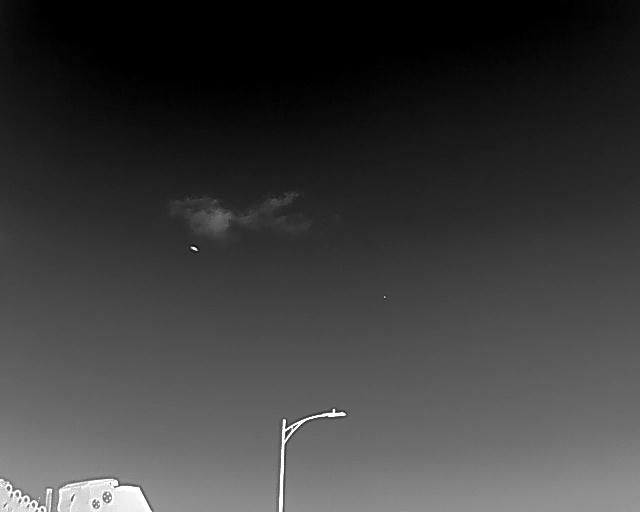fpv-drone: (189, 245, 199, 252)
